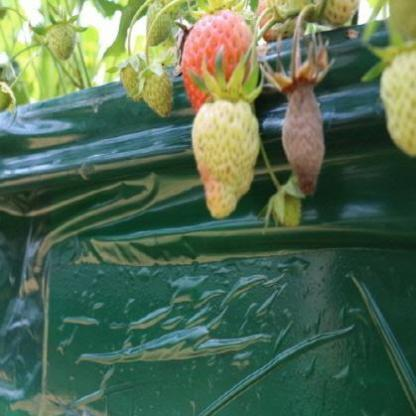Strawberry_Gray_Mold: (261, 40, 330, 198)
